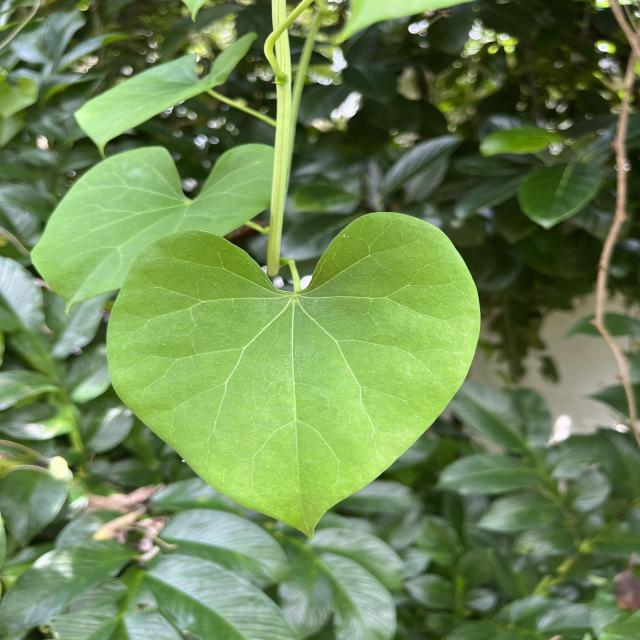Tinospora cordifolia: (102, 208, 486, 544)
